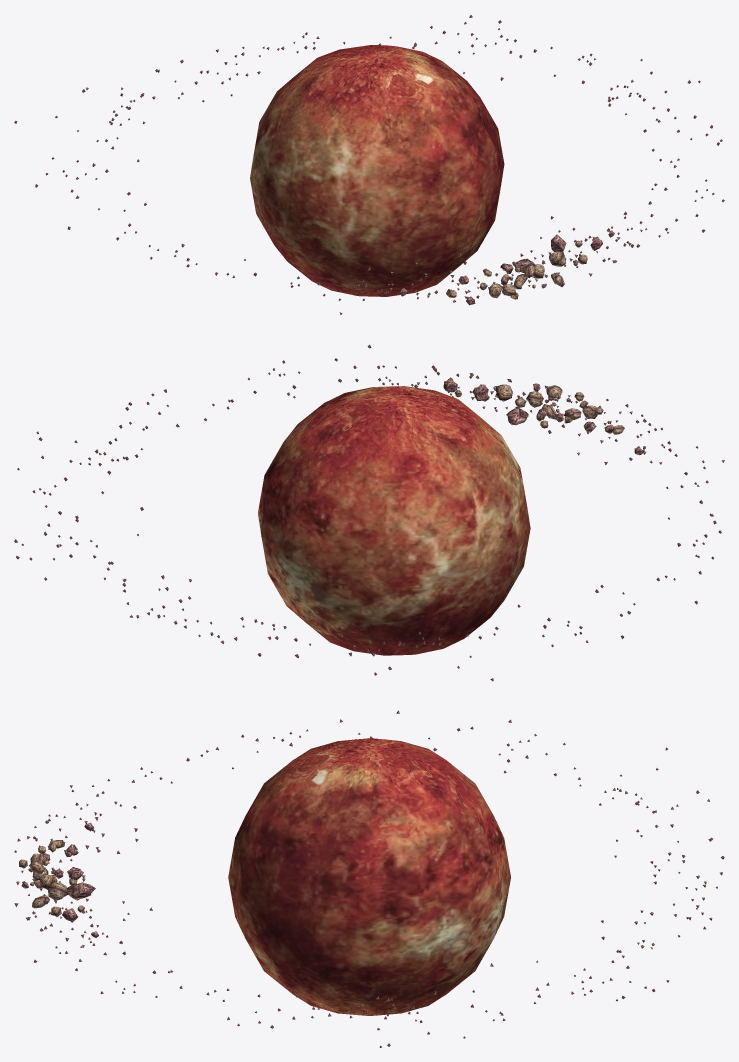
File: ENVO_AsteroidField.obj
3 views of the same model, one above another, from view 1: azimuth 30°, elevation 25°; view 2: azimuth 150°, elevation 25°; view 3: azimuth 270°, elevation 25° (orthographic). The views are drawn at different scales.
Visible parts, largest first — view 1: planet, asteroids, floatingRocks; view 2: planet, asteroids, floatingRocks; view 3: planet, asteroids, floatingRocks.
Part boxes in pixels (x1,y1,x2,y2): planet: (250,45,504,296); asteroids: (14,15,724,314); floatingRocks: (446,240,587,298); planet: (258,386,530,655); asteroids: (14,344,724,681); floatingRocks: (454,384,624,434); planet: (228,738,510,1015); asteroids: (14,710,724,1047); floatingRocks: (19,840,84,916).
Bounding box in the file's own units: 216 × 76.27 × 193.
Materials: 3 (3 with a texture image).
